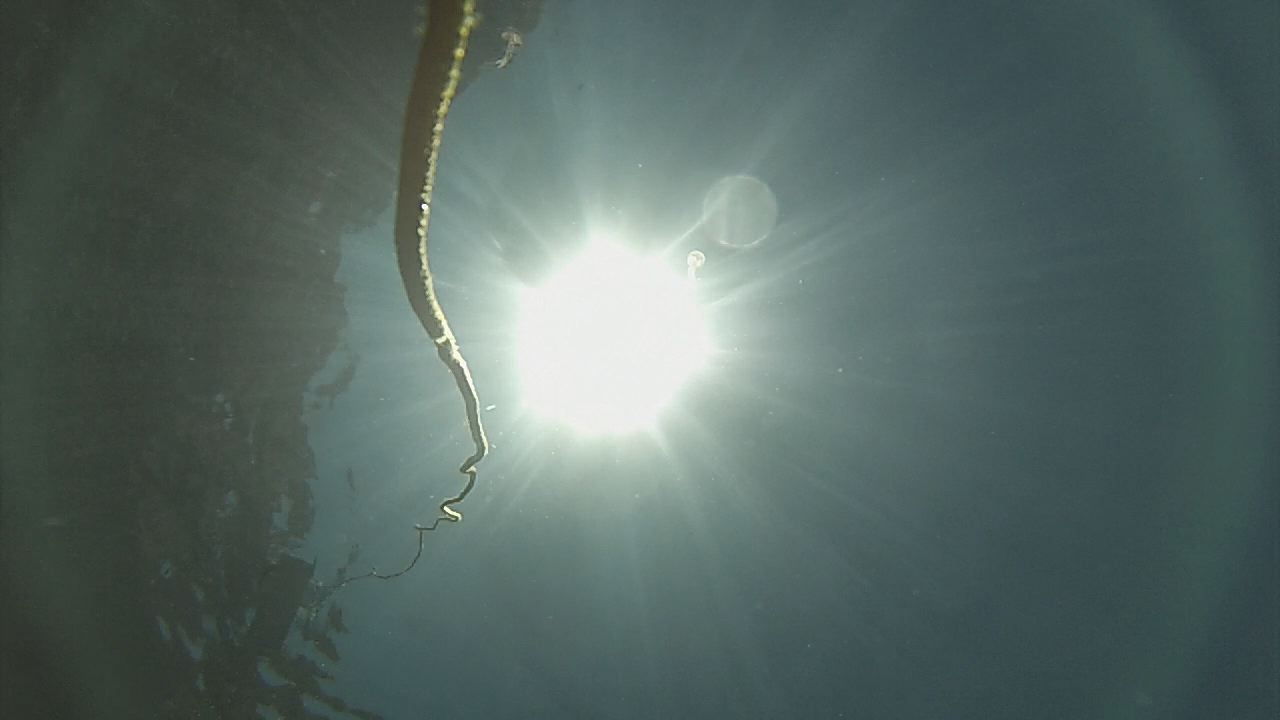pelagia: (488, 17, 530, 79), (682, 248, 707, 296)
